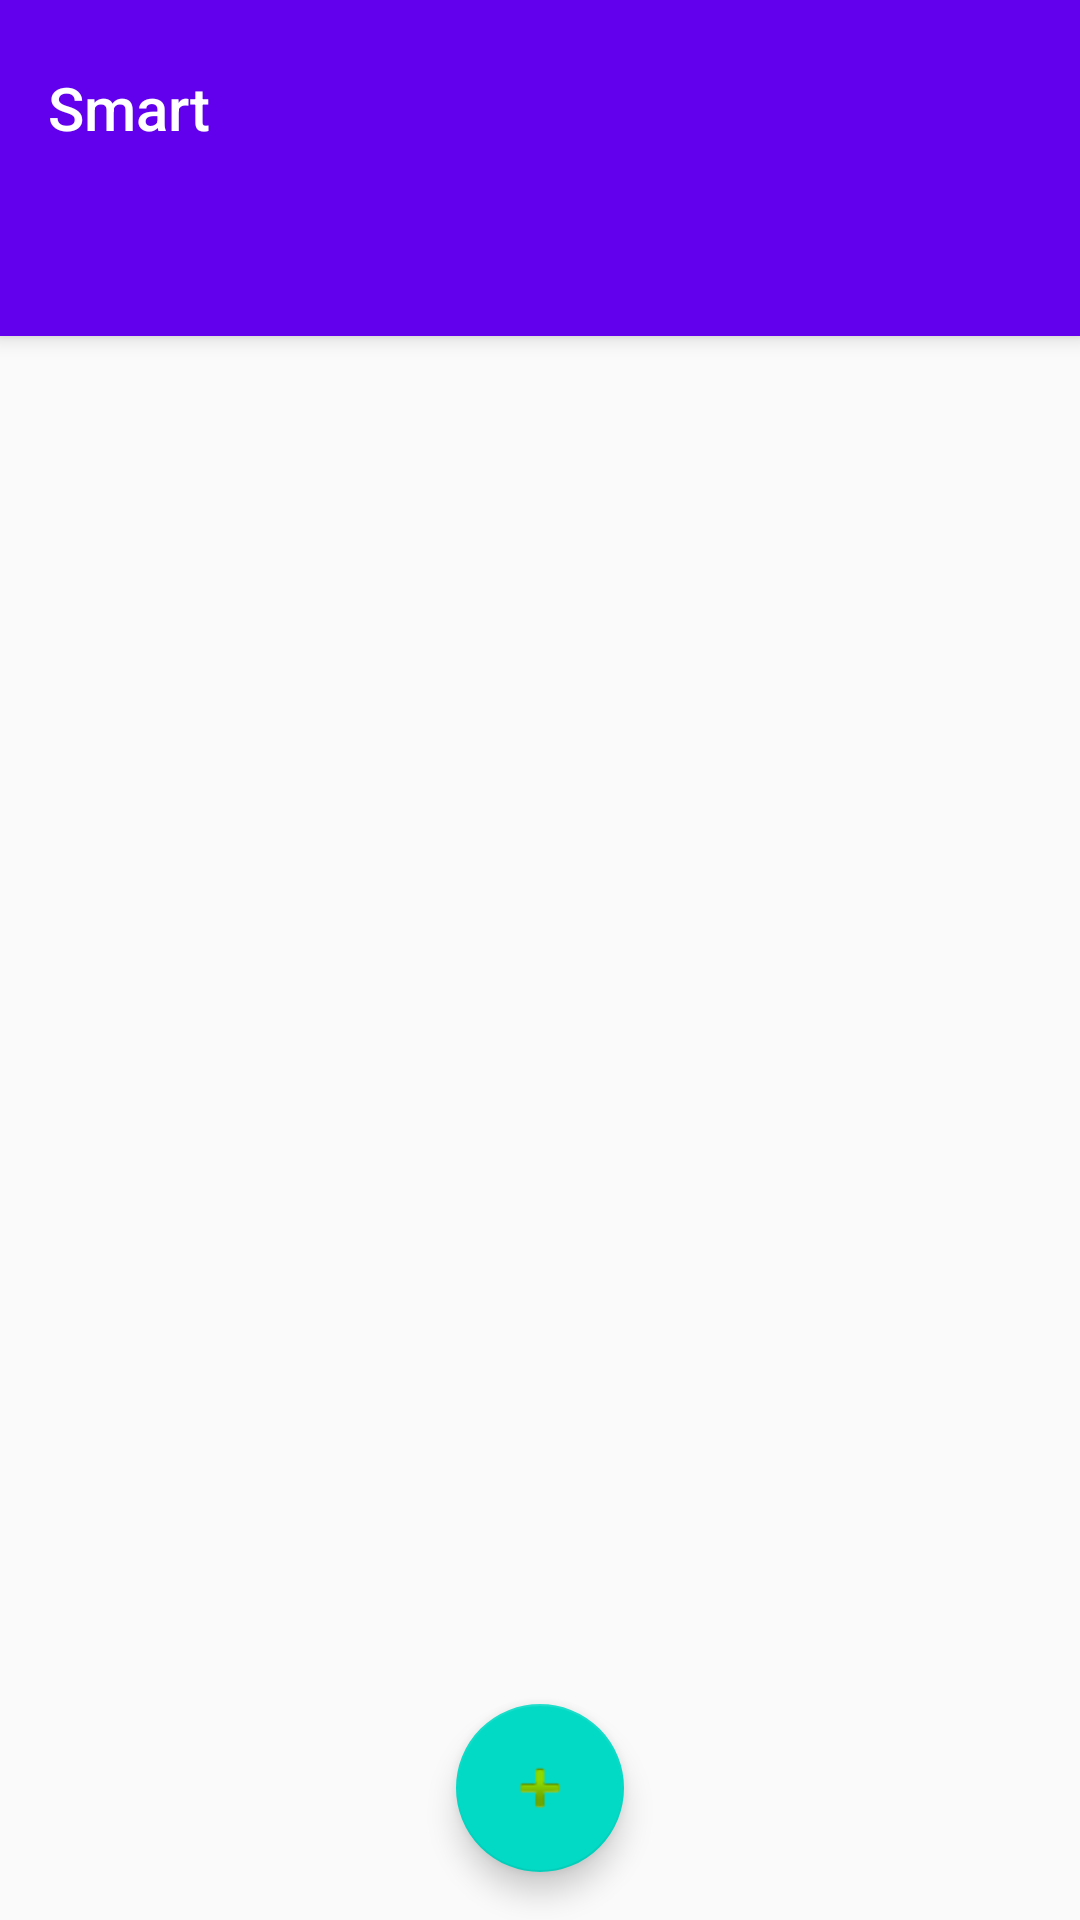

Point at icon controls on the screen. Image size 1080*1920, points as (x,y).
add: (540,1788)
